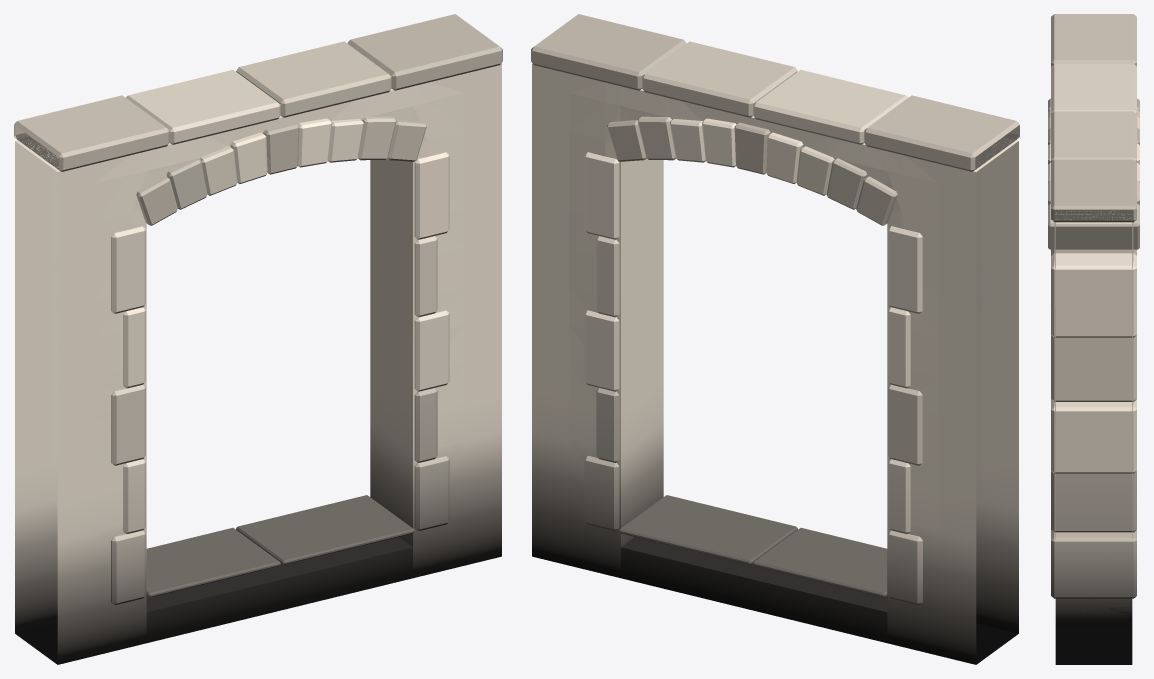
The model's file is SM_VKI_Wall_Stone_DoorWide_300_Full.fbx.
3 renders of one model, left to right at view 1: azimuth 30°, elevation 25°; view 2: azimuth 150°, elevation 25°; view 3: azimuth 270°, elevation 25°, orthographic. The views are drawn at different scales.
Visible parts, largest first — view 1: SM_VKI_Wall_Stone_DoorWide_300_Full.001; view 2: SM_VKI_Wall_Stone_DoorWide_300_Full.001; view 3: SM_VKI_Wall_Stone_DoorWide_300_Full.001.
Part boxes in pixels (box(x1,y1,x2,y2)): SM_VKI_Wall_Stone_DoorWide_300_Full.001: box(14, 14, 502, 664); SM_VKI_Wall_Stone_DoorWide_300_Full.001: box(531, 14, 1019, 664); SM_VKI_Wall_Stone_DoorWide_300_Full.001: box(1048, 14, 1139, 664).
Size of the model in its own units: 3 by 3.3 by 0.6.
